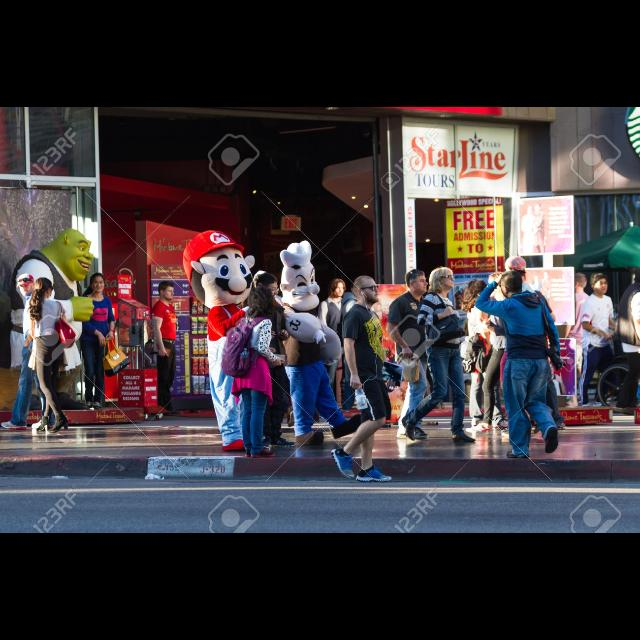head: (253, 272, 279, 300), (498, 271, 524, 299), (354, 276, 381, 302), (430, 268, 456, 290), (486, 272, 508, 298), (251, 287, 273, 311), (406, 270, 428, 294), (504, 260, 526, 280), (18, 274, 36, 298), (35, 277, 53, 299), (470, 280, 488, 302), (591, 275, 609, 295), (158, 282, 176, 300), (570, 273, 588, 291), (90, 273, 106, 293), (330, 279, 346, 297), (348, 281, 362, 295)
person: (471, 270, 567, 460), (399, 266, 478, 446), (330, 275, 398, 483), (496, 255, 570, 432), (221, 286, 287, 460), (462, 270, 524, 436), (1, 273, 59, 433), (456, 273, 514, 433), (248, 271, 294, 451), (385, 270, 433, 442), (28, 276, 80, 434), (577, 272, 621, 411), (79, 273, 117, 412), (317, 278, 353, 414), (340, 280, 376, 414), (148, 280, 180, 416), (560, 272, 592, 408)
